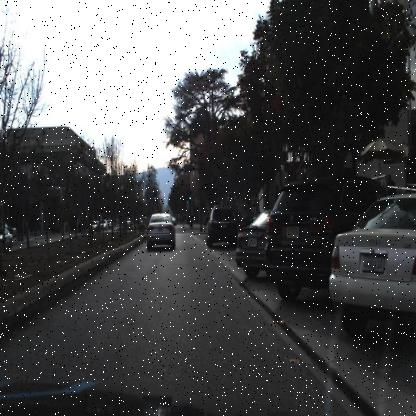car: (262, 170, 387, 301), (328, 194, 416, 340), (265, 172, 340, 312), (232, 202, 272, 283), (231, 211, 266, 281), (144, 206, 178, 255), (203, 203, 237, 250), (205, 206, 233, 248), (0, 226, 13, 253)
